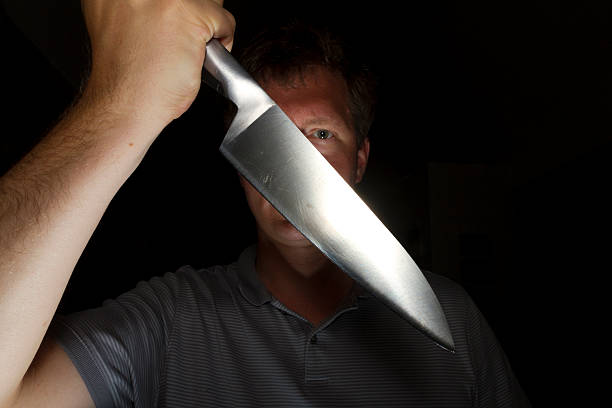knife: (201, 37, 458, 357)
